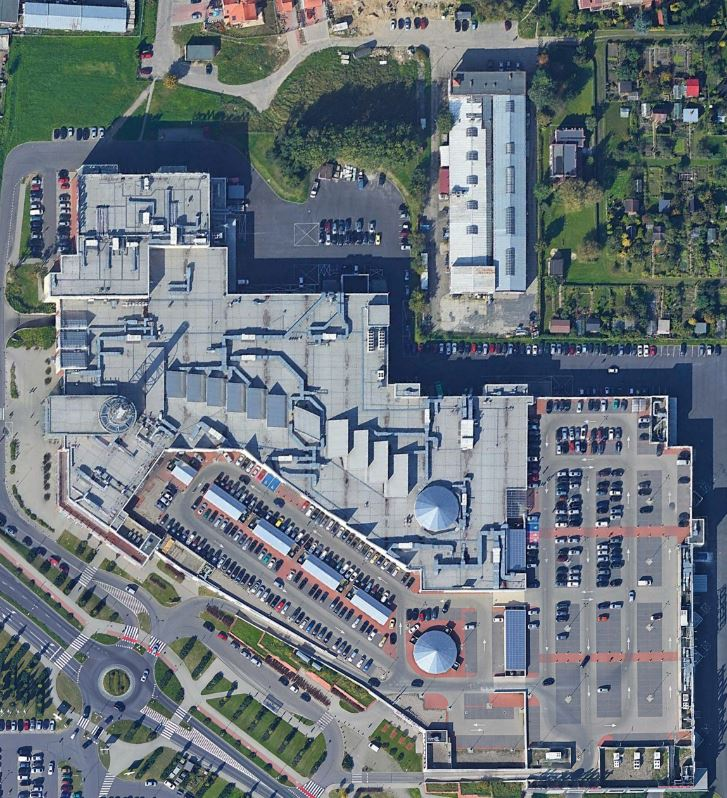block of flats: (426, 57, 538, 309)
shopping_center: (41, 163, 717, 798)
